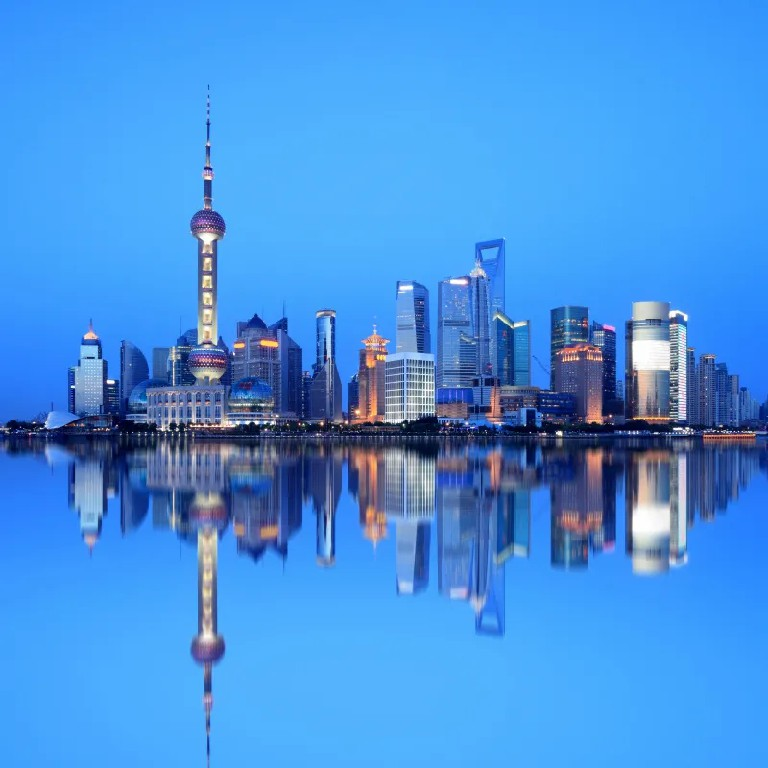Oriental: (186, 86, 228, 384)
